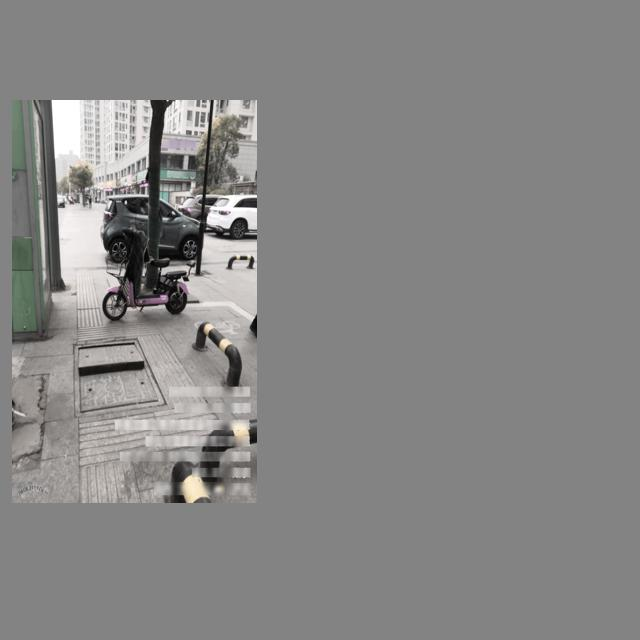uncovered: (74, 339, 168, 418)
